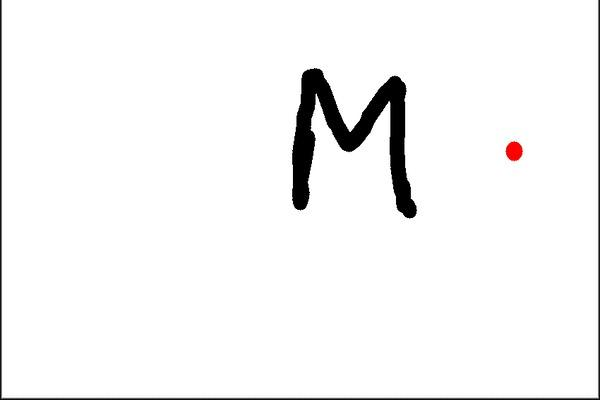M: (284, 64, 424, 222)
